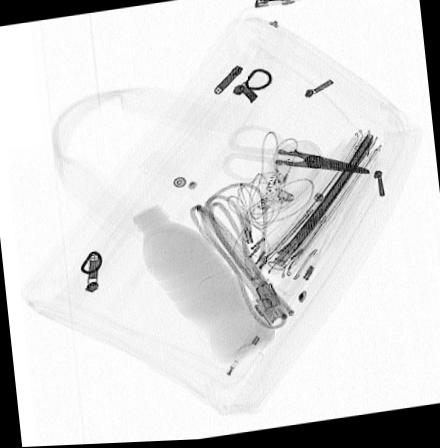Scissors: (220, 128, 371, 185)
